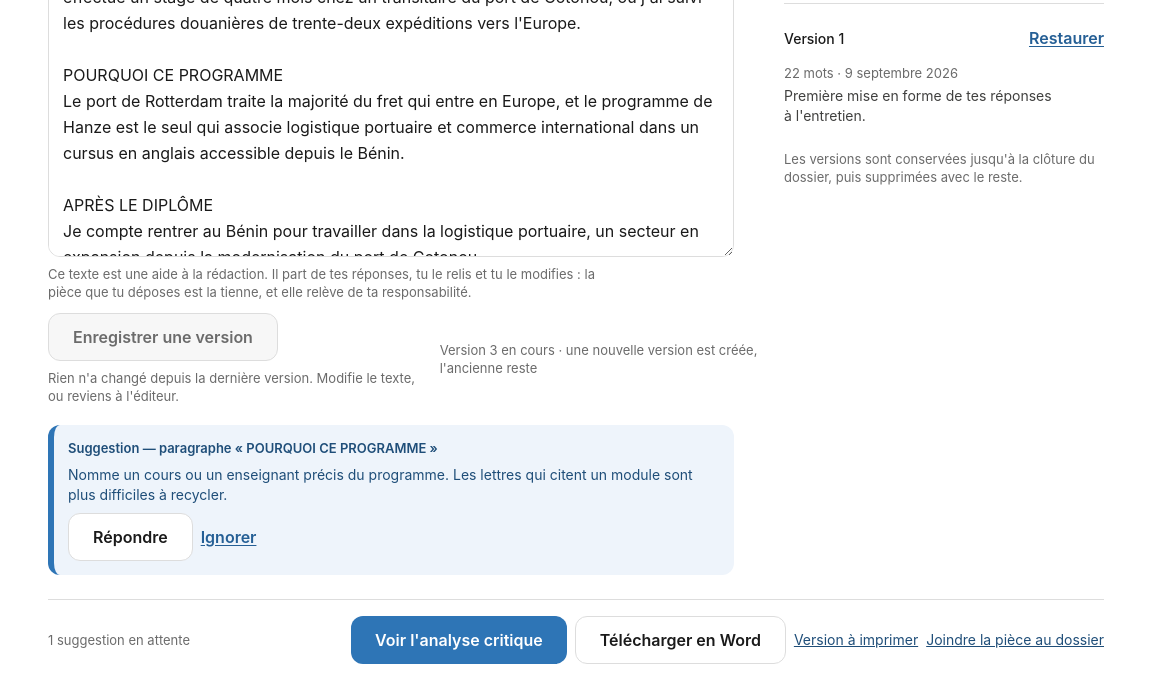
it: R-03 — Éditeur et versions › pose la suggestion sur son paragraphe, et la laisse ignorer
(page scrolled)
Expected: the text "Nomme un cours ou un enseignant précis du programme. Les lettres qui citent un module sont plus difficiles à recycler." is shown, top-left (68, 466), bottom-right (693, 503)
Click the button "Ignorer" at (229, 537), box top-left (201, 513), bottom-right (256, 561)
(page scrolled)
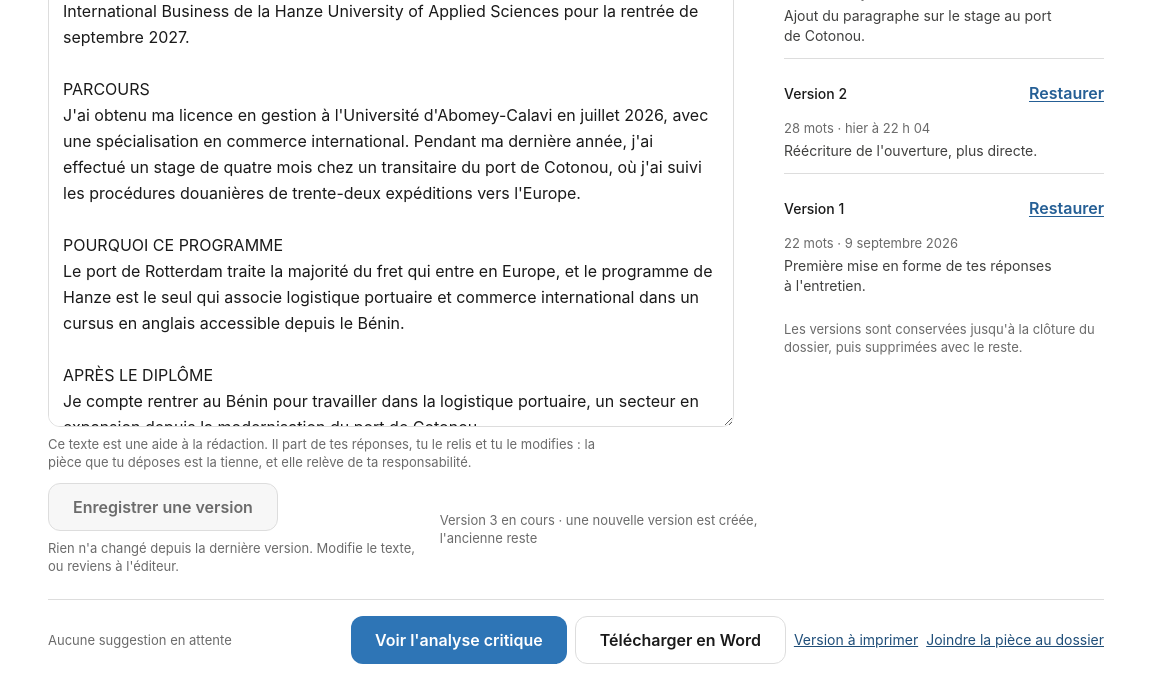
Expected: the text "Nomme un cours ou un enseignant précis du programme. Les lettres qui citent un module sont plus difficiles à recycler." is gone
Expected: the text "Aucune suggestion en attente" is shown, top-left (48, 631), bottom-right (232, 649)
